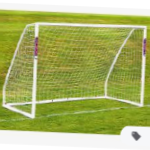goals: (1, 20, 150, 120)
